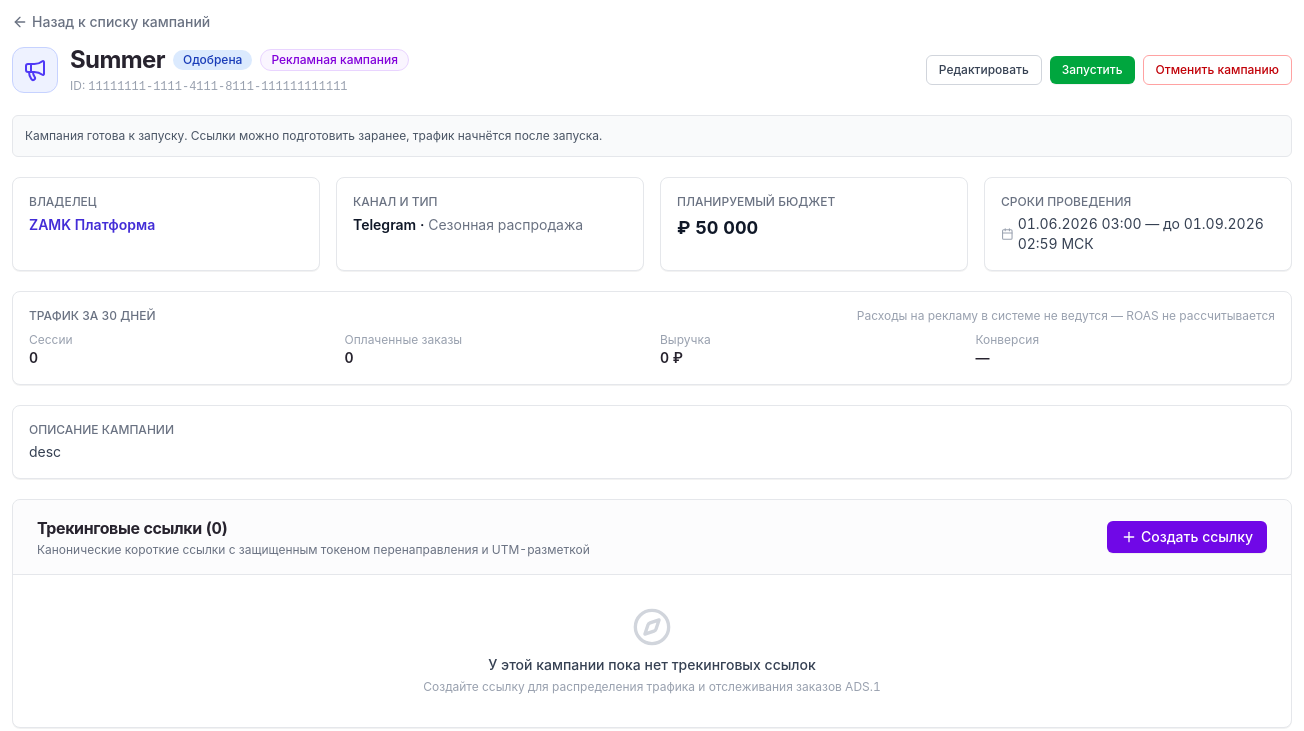
Test case: AdminMarketingCampaignDetail (M1.1/M1.3) › does not show a success when the status update fails
The image size is (1304, 731).
What coordinates should you click on to do the following:
click the button with test id "activate-campaign-button"
I would click on:
 (1092, 70)
Its box is 1050,56 -> 1135,84.
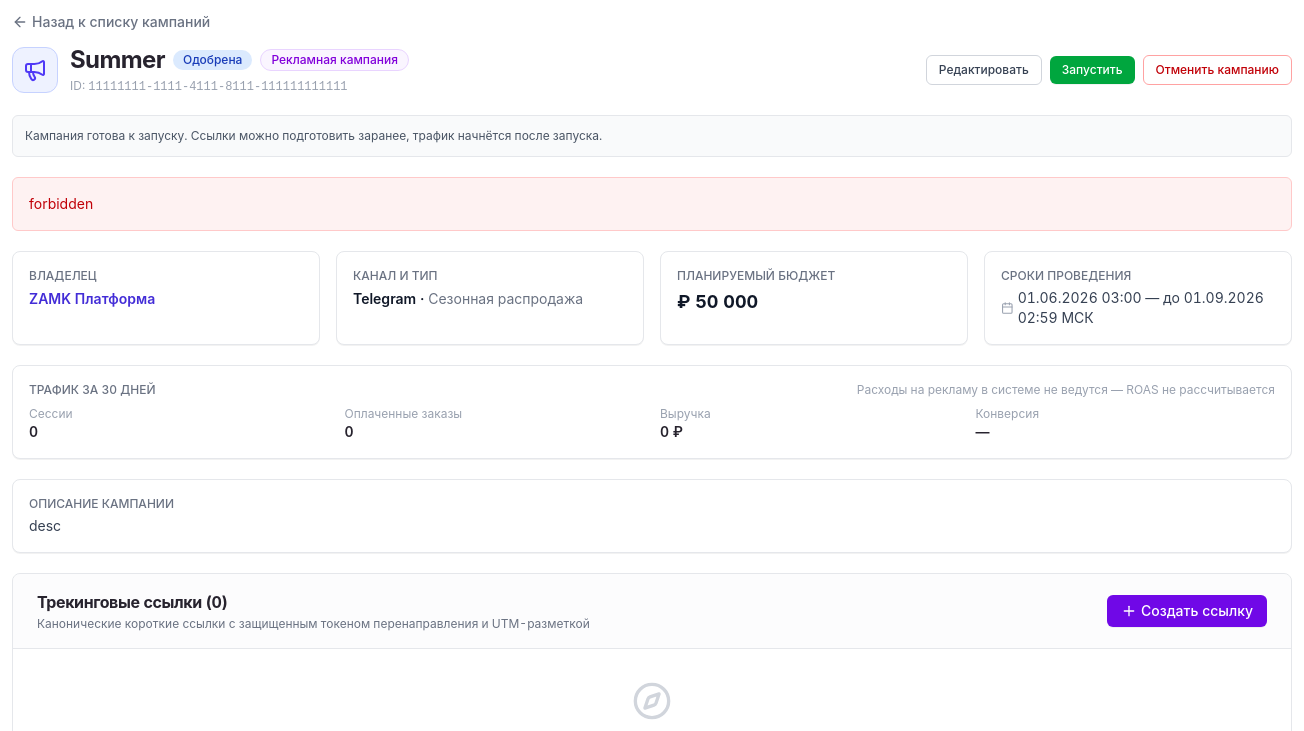
Expected: the text with test id "campaign-status-badge" reads "Одобрена", 183,52 -> 242,67
Now the text with test id "detail-error" reads "forbidden", box 29,195 -> 93,212
